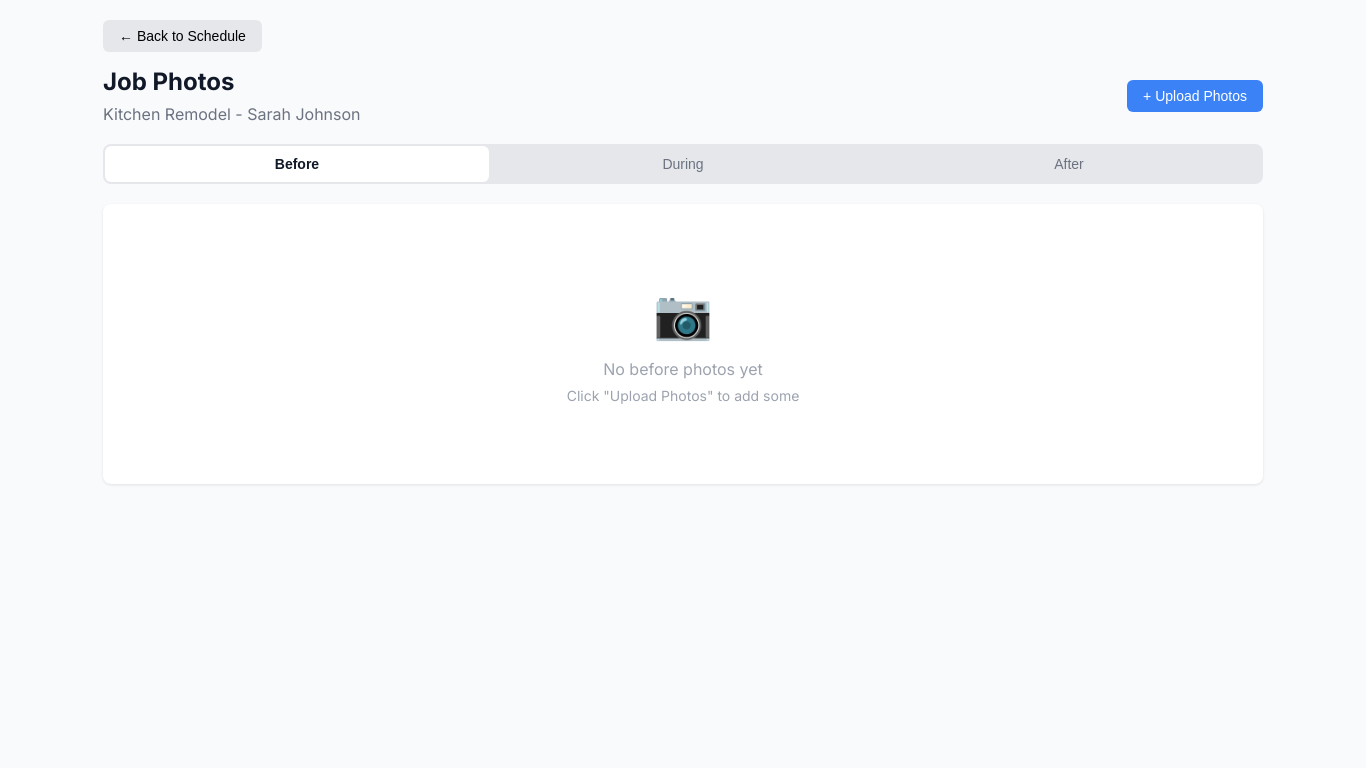
Test case: Job Photos › switches between tabs
The width and height of the screenshot is (1366, 768).
// Click on "After" tab
Click the button "After": click(1069, 164) top-left (877, 146), bottom-right (1261, 182)
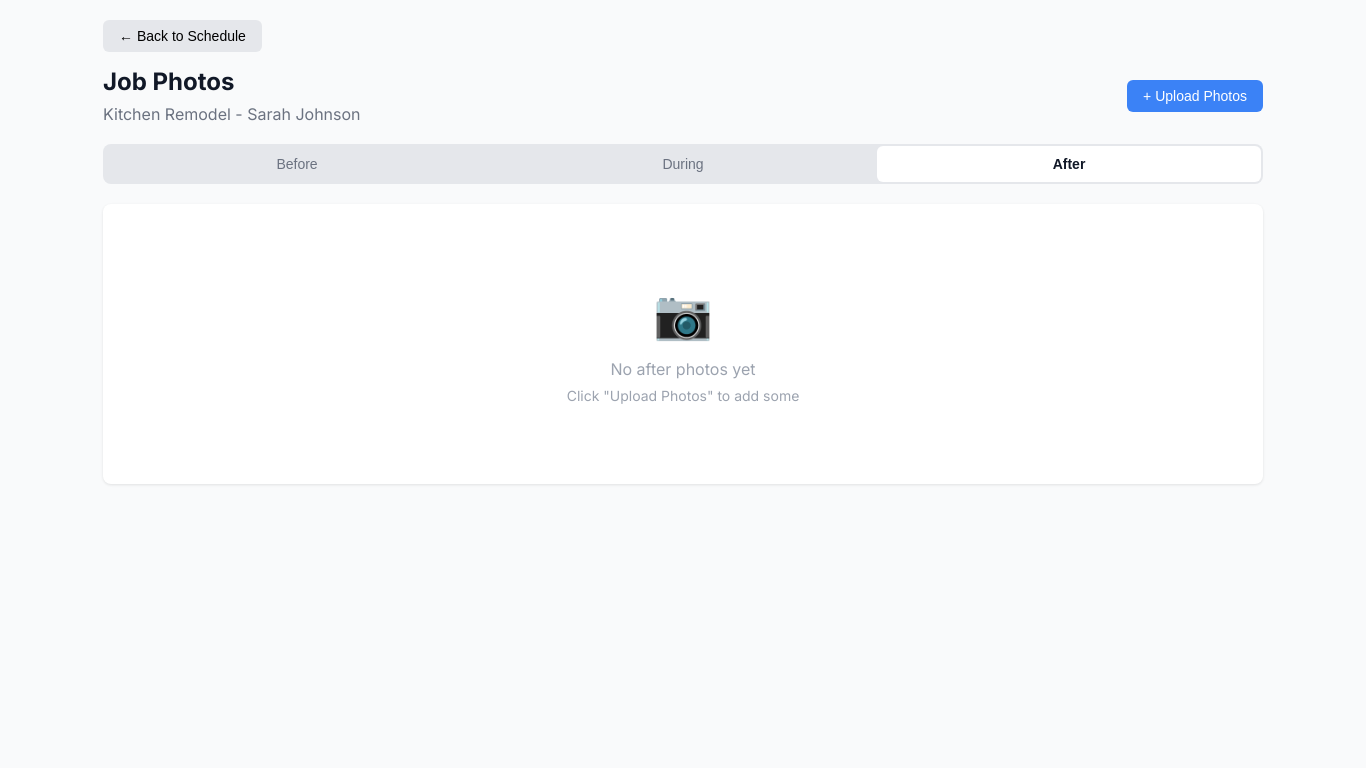
Expected: the text "No after photos yet" is shown, top-left (610, 359), bottom-right (756, 379)
